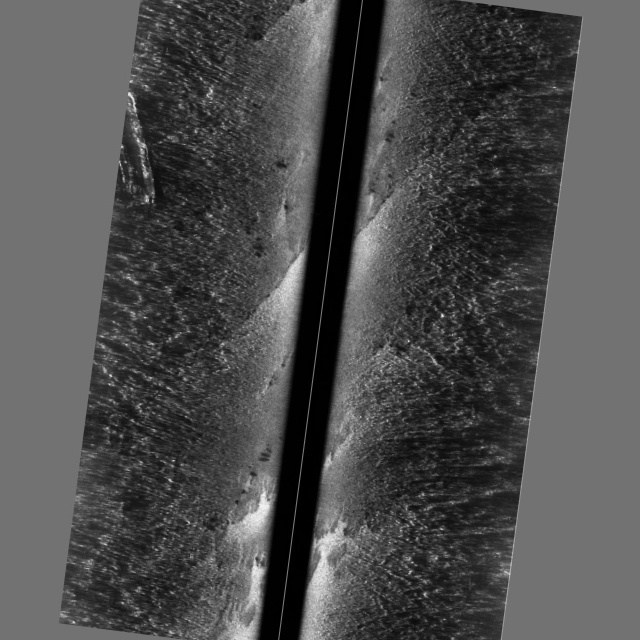Shipwreck: (112, 92, 169, 213)
